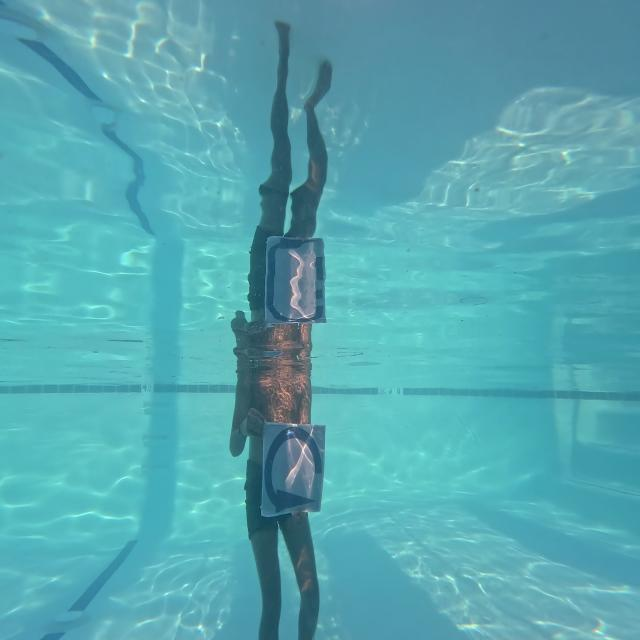blue_side: (262, 412, 325, 520)
